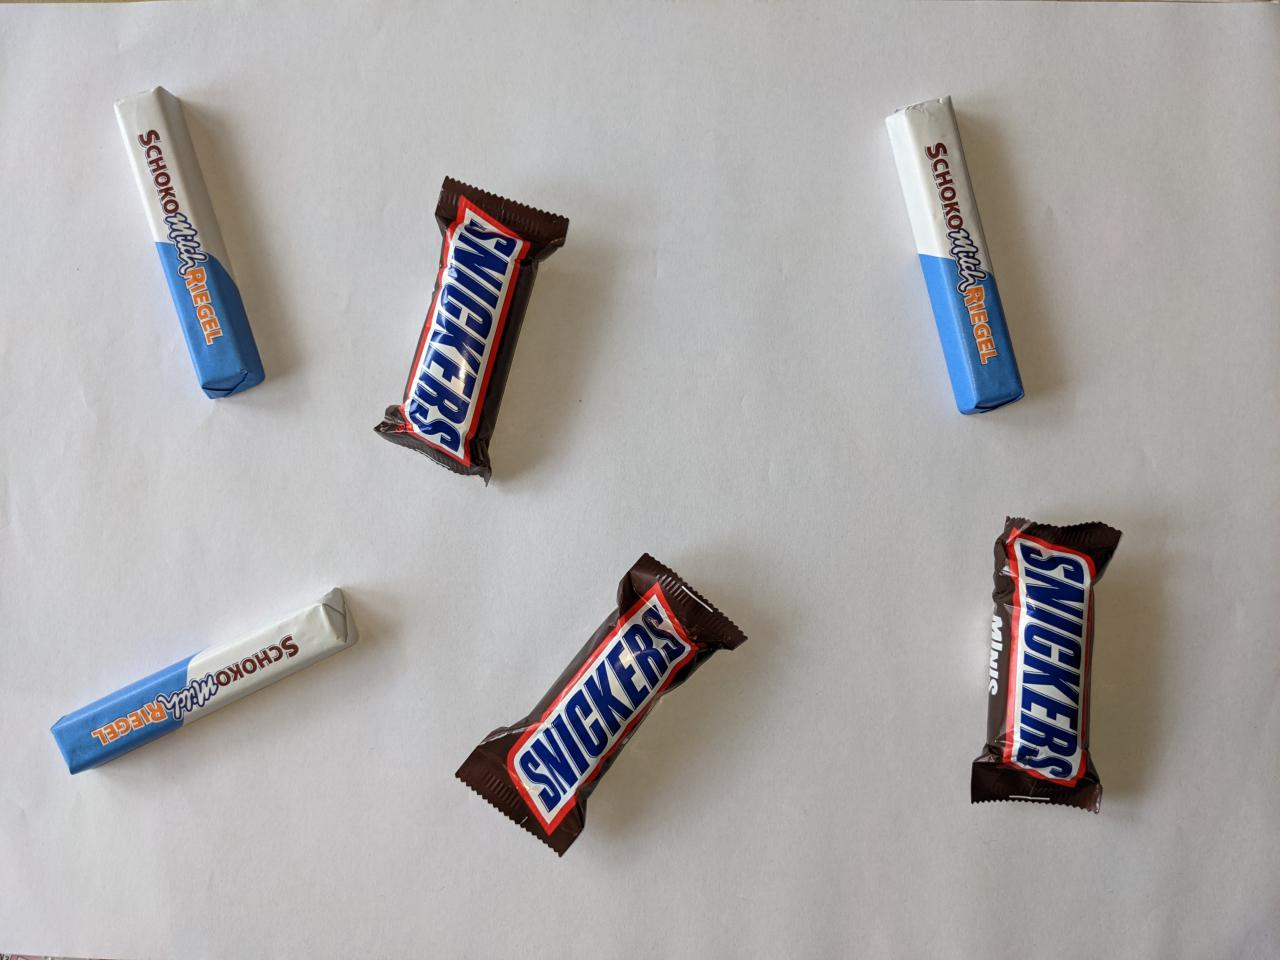Schokoriegel: (44, 580, 367, 783), (106, 78, 273, 406), (878, 86, 1031, 424)
Snickers: (447, 543, 757, 867), (367, 167, 580, 495), (962, 510, 1130, 825)
